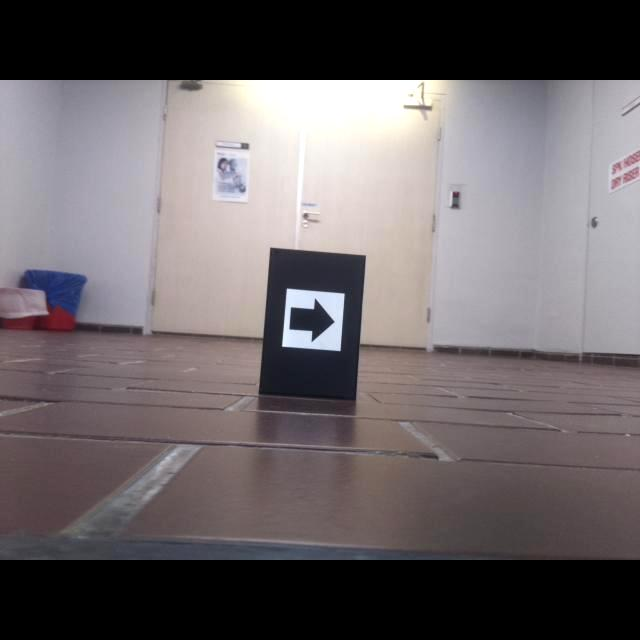RIGHT: (288, 295, 336, 344)
